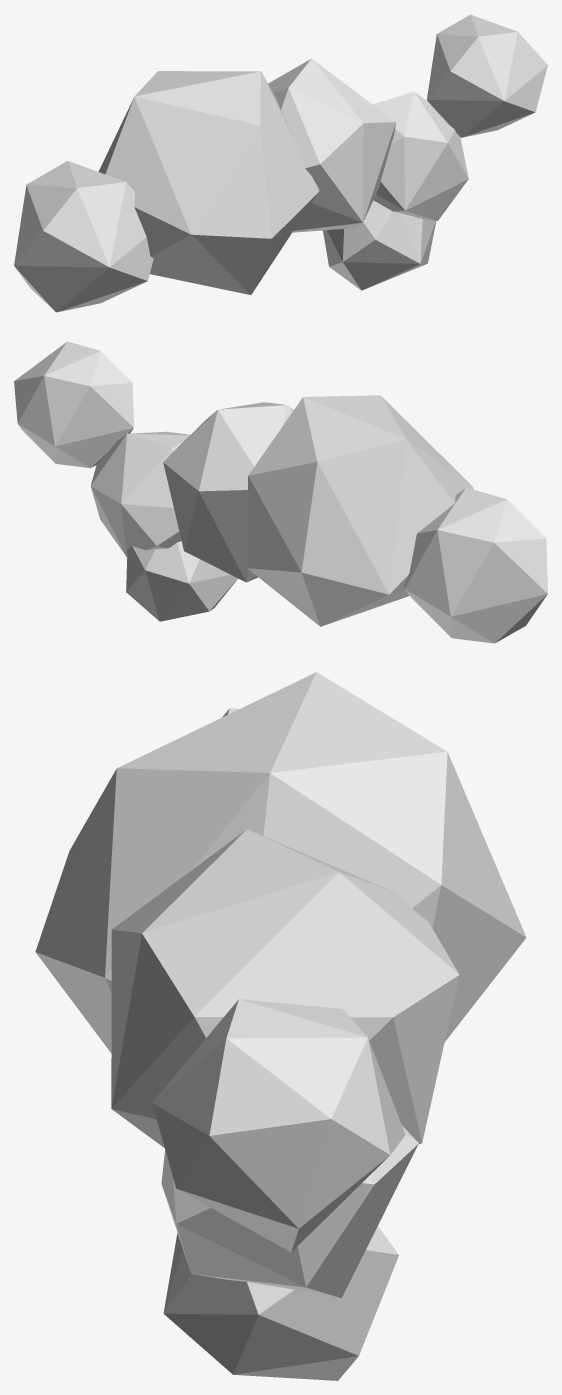
The model's file is cloud_17.fbx.
3 renders of one model, top to bottom at view 1: azimuth 30°, elevation 25°; view 2: azimuth 150°, elevation 25°; view 3: azimuth 270°, elevation 25°, orthographic. The views are drawn at different scales.
Visible parts, largest first — view 1: cloud_17; view 2: cloud_17; view 3: cloud_17.
Boxes of the visible parts, x1=… form: cloud_17: x1=14, y1=14, x2=547, y2=312; cloud_17: x1=14, y1=341, x2=547, y2=643; cloud_17: x1=35, y1=672, x2=526, y2=1380.
Bounding box in the file's own units: 755 × 337 × 309.
